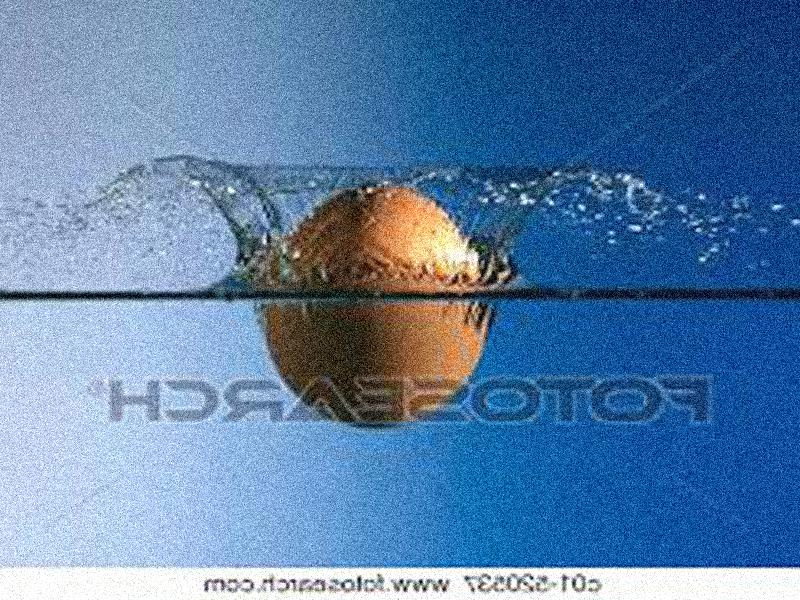Eggs: (262, 181, 487, 424)
